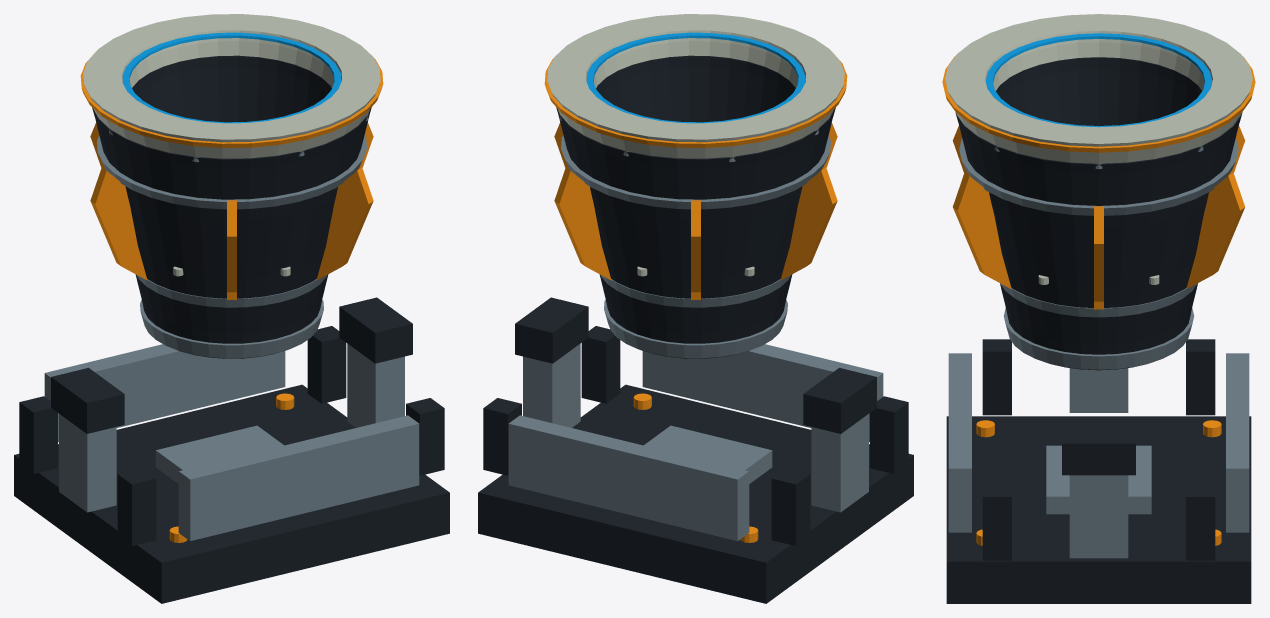
3 renders of one model, left to right at view 1: azimuth 30°, elevation 25°; view 2: azimuth 150°, elevation 25°; view 3: azimuth 270°, elevation 25°, orthographic. The views are drawn at different scales.
Visible parts, largest first — view 1: Variable_section_nozzle_shell, Rear_frame_mount_plate, Ceramic_exit_throat, Upper_bridge, Lower_bridge, Side_gimbal_yoke_L, Side_gimbal_yoke_R, Side_servo_pivot_R, Side_servo_pivot_L, Rear_mount_center_boss, External_vector_fin_01, External_vector_fin_03 (+10 smaller); view 2: Variable_section_nozzle_shell, Rear_frame_mount_plate, Ceramic_exit_throat, Lower_bridge, Upper_bridge, Side_gimbal_yoke_L, Side_gimbal_yoke_R, Side_servo_pivot_R, Side_servo_pivot_L, Rear_mount_center_boss, External_vector_fin_05, External_vector_fin_03 (+10 smaller); view 3: Variable_section_nozzle_shell, Rear_frame_mount_plate, Ceramic_exit_throat, Side_gimbal_yoke_R, Upper_bridge, Lower_bridge, Side_servo_pivot_R, External_vector_fin_01, External_vector_fin_05, Forward_cooling_band, Intake_titanium_collar, Rear_mount_center_boss (+9 smaller).
Boxes of the visible parts, x1=… form: Variable_section_nozzle_shell: x1=92, y1=55, x2=371, y2=358; Rear_frame_mount_plate: x1=14, y1=384, x2=449, y2=603; Ceramic_exit_throat: x1=83, y1=14, x2=380, y2=158; Upper_bridge: x1=178, y1=415, x2=419, y2=541; Lower_bridge: x1=44, y1=344, x2=285, y2=442; Side_gimbal_yoke_L: x1=59, y1=414, x2=116, y2=512; Side_gimbal_yoke_R: x1=347, y1=343, x2=404, y2=427; Side_servo_pivot_R: x1=339, y1=297, x2=412, y2=363; Side_servo_pivot_L: x1=51, y1=367, x2=124, y2=433; Rear_mount_center_boss: x1=155, y1=425, x2=283, y2=483; External_vector_fin_01: x1=316, y1=167, x2=373, y2=280; External_vector_fin_03: x1=90, y1=167, x2=147, y2=280; Variable_section_nozzle_shell: x1=556, y1=55, x2=835, y2=358; Rear_frame_mount_plate: x1=478, y1=384, x2=913, y2=603; Ceramic_exit_throat: x1=547, y1=14, x2=844, y2=158; Lower_bridge: x1=508, y1=415, x2=749, y2=541; Upper_bridge: x1=642, y1=344, x2=883, y2=442; Side_gimbal_yoke_L: x1=811, y1=414, x2=868, y2=512; Side_gimbal_yoke_R: x1=523, y1=343, x2=580, y2=427; Side_servo_pivot_R: x1=515, y1=297, x2=588, y2=363; Side_servo_pivot_L: x1=803, y1=367, x2=876, y2=433; Rear_mount_center_boss: x1=644, y1=425, x2=772, y2=483; External_vector_fin_05: x1=554, y1=167, x2=611, y2=280; External_vector_fin_03: x1=780, y1=167, x2=837, y2=280; Variable_section_nozzle_shell: x1=955, y1=57, x2=1242, y2=370; Rear_frame_mount_plate: x1=946, y1=416, x2=1251, y2=603; Ceramic_exit_throat: x1=945, y1=14, x2=1252, y2=163; Side_gimbal_yoke_R: x1=1069, y1=475, x2=1128, y2=558; Upper_bridge: x1=948, y1=353, x2=971, y2=532; Lower_bridge: x1=1226, y1=353, x2=1249, y2=532; Side_servo_pivot_R: x1=1062, y1=424, x2=1135, y2=475; External_vector_fin_01: x1=953, y1=172, x2=1011, y2=288; External_vector_fin_05: x1=1186, y1=172, x2=1244, y2=288; Forward_cooling_band: x1=959, y1=138, x2=1238, y2=215; Intake_titanium_collar: x1=1003, y1=308, x2=1194, y2=369; Rear_mount_center_boss: x1=1046, y1=445, x2=1151, y2=514.
Size of the model in its own units: 0.995 by 1.28 by 0.802.
